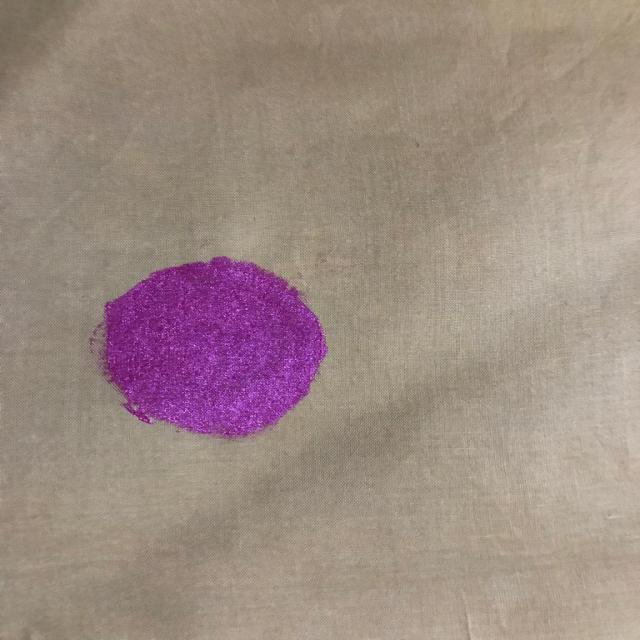Stain: (100, 250, 331, 440)
